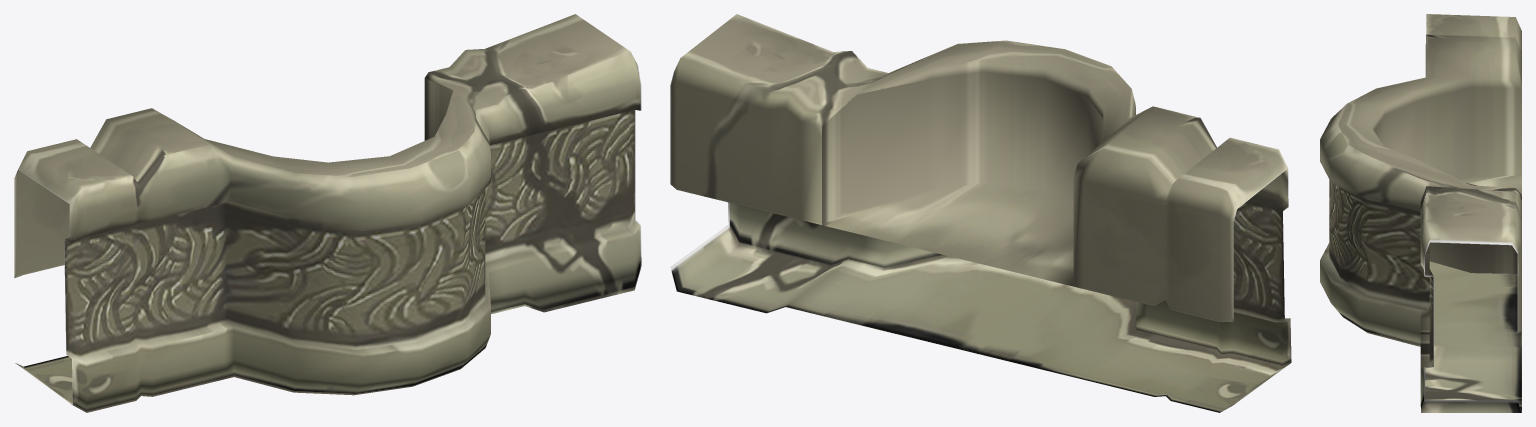
File: walltop_2_indent.fbx
3 renders of one model, left to right at view 1: azimuth 30°, elevation 25°; view 2: azimuth 150°, elevation 25°; view 3: azimuth 270°, elevation 25°, orthographic. The views are drawn at different scales.
Parts seen in each view (by area): view 1: wallcap11; view 2: wallcap11; view 3: wallcap11.
Boxes of the visible parts, x1,y1,x2,y2 form: wallcap11: [14, 14, 641, 412]; wallcap11: [670, 14, 1291, 412]; wallcap11: [1320, 14, 1521, 412].
Bounding box in the file's own units: 2 × 0.8259 × 0.7712.
